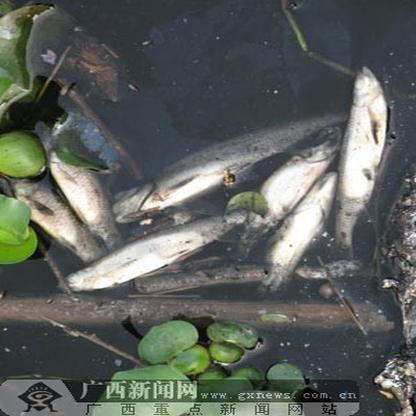deceased fish: (107, 109, 345, 217), (64, 209, 240, 293), (241, 141, 335, 243), (45, 138, 122, 249), (9, 174, 104, 263), (338, 63, 381, 247), (267, 171, 339, 280)
